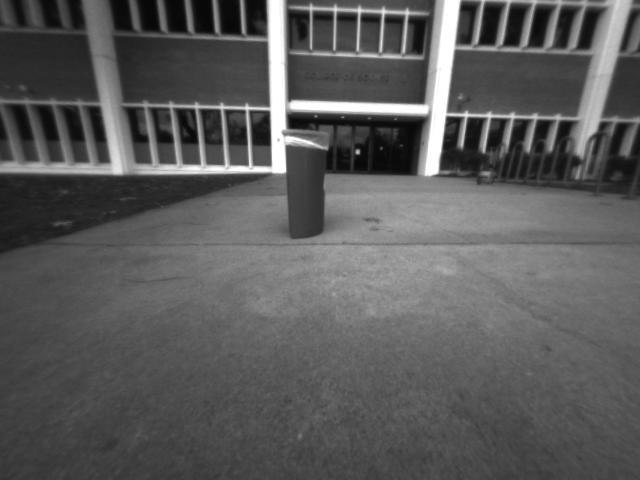trashcan_open: (281, 126, 332, 242)
